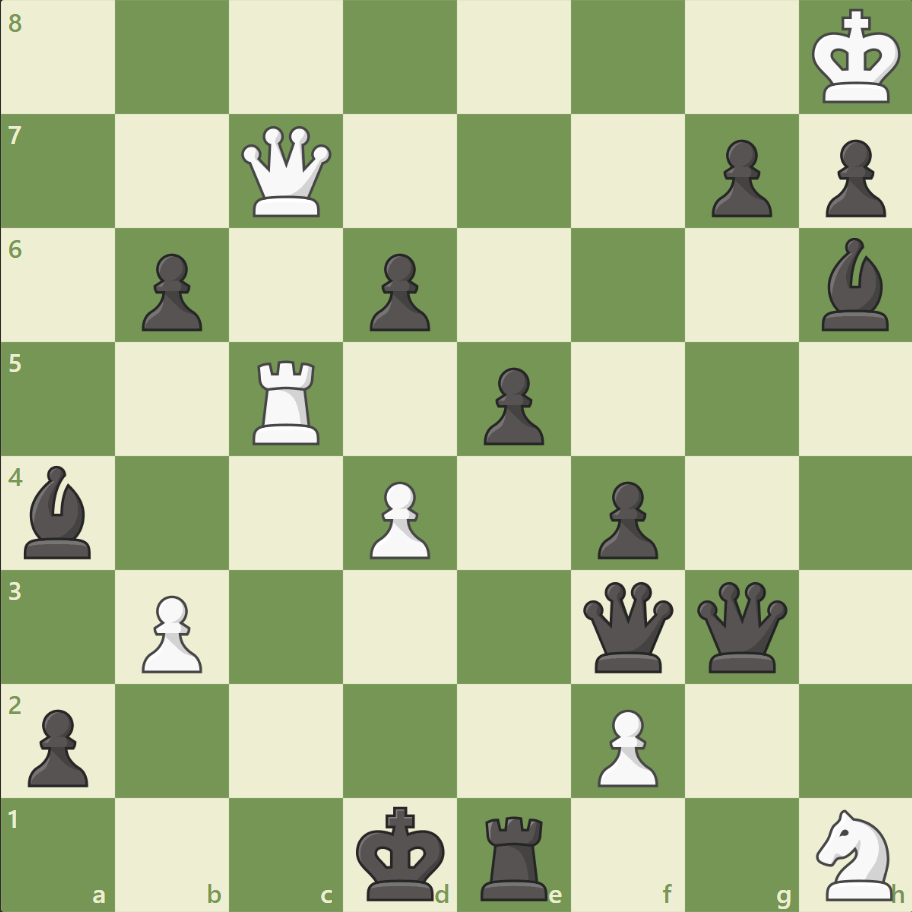K: (806, 4, 906, 112)
N: (806, 802, 903, 904)
P: (133, 586, 208, 677), (361, 473, 435, 564), (588, 700, 662, 791)
Q: (237, 122, 336, 222)
R: (246, 352, 329, 449)
b: (812, 233, 896, 336), (17, 460, 101, 563)
k: (351, 798, 451, 906)
p: (701, 132, 776, 223), (133, 246, 208, 337), (474, 359, 549, 450), (20, 700, 95, 791), (815, 132, 889, 223), (361, 246, 435, 337), (588, 473, 662, 564)
q: (578, 576, 677, 676), (691, 576, 790, 676)
r: (473, 806, 556, 904)
